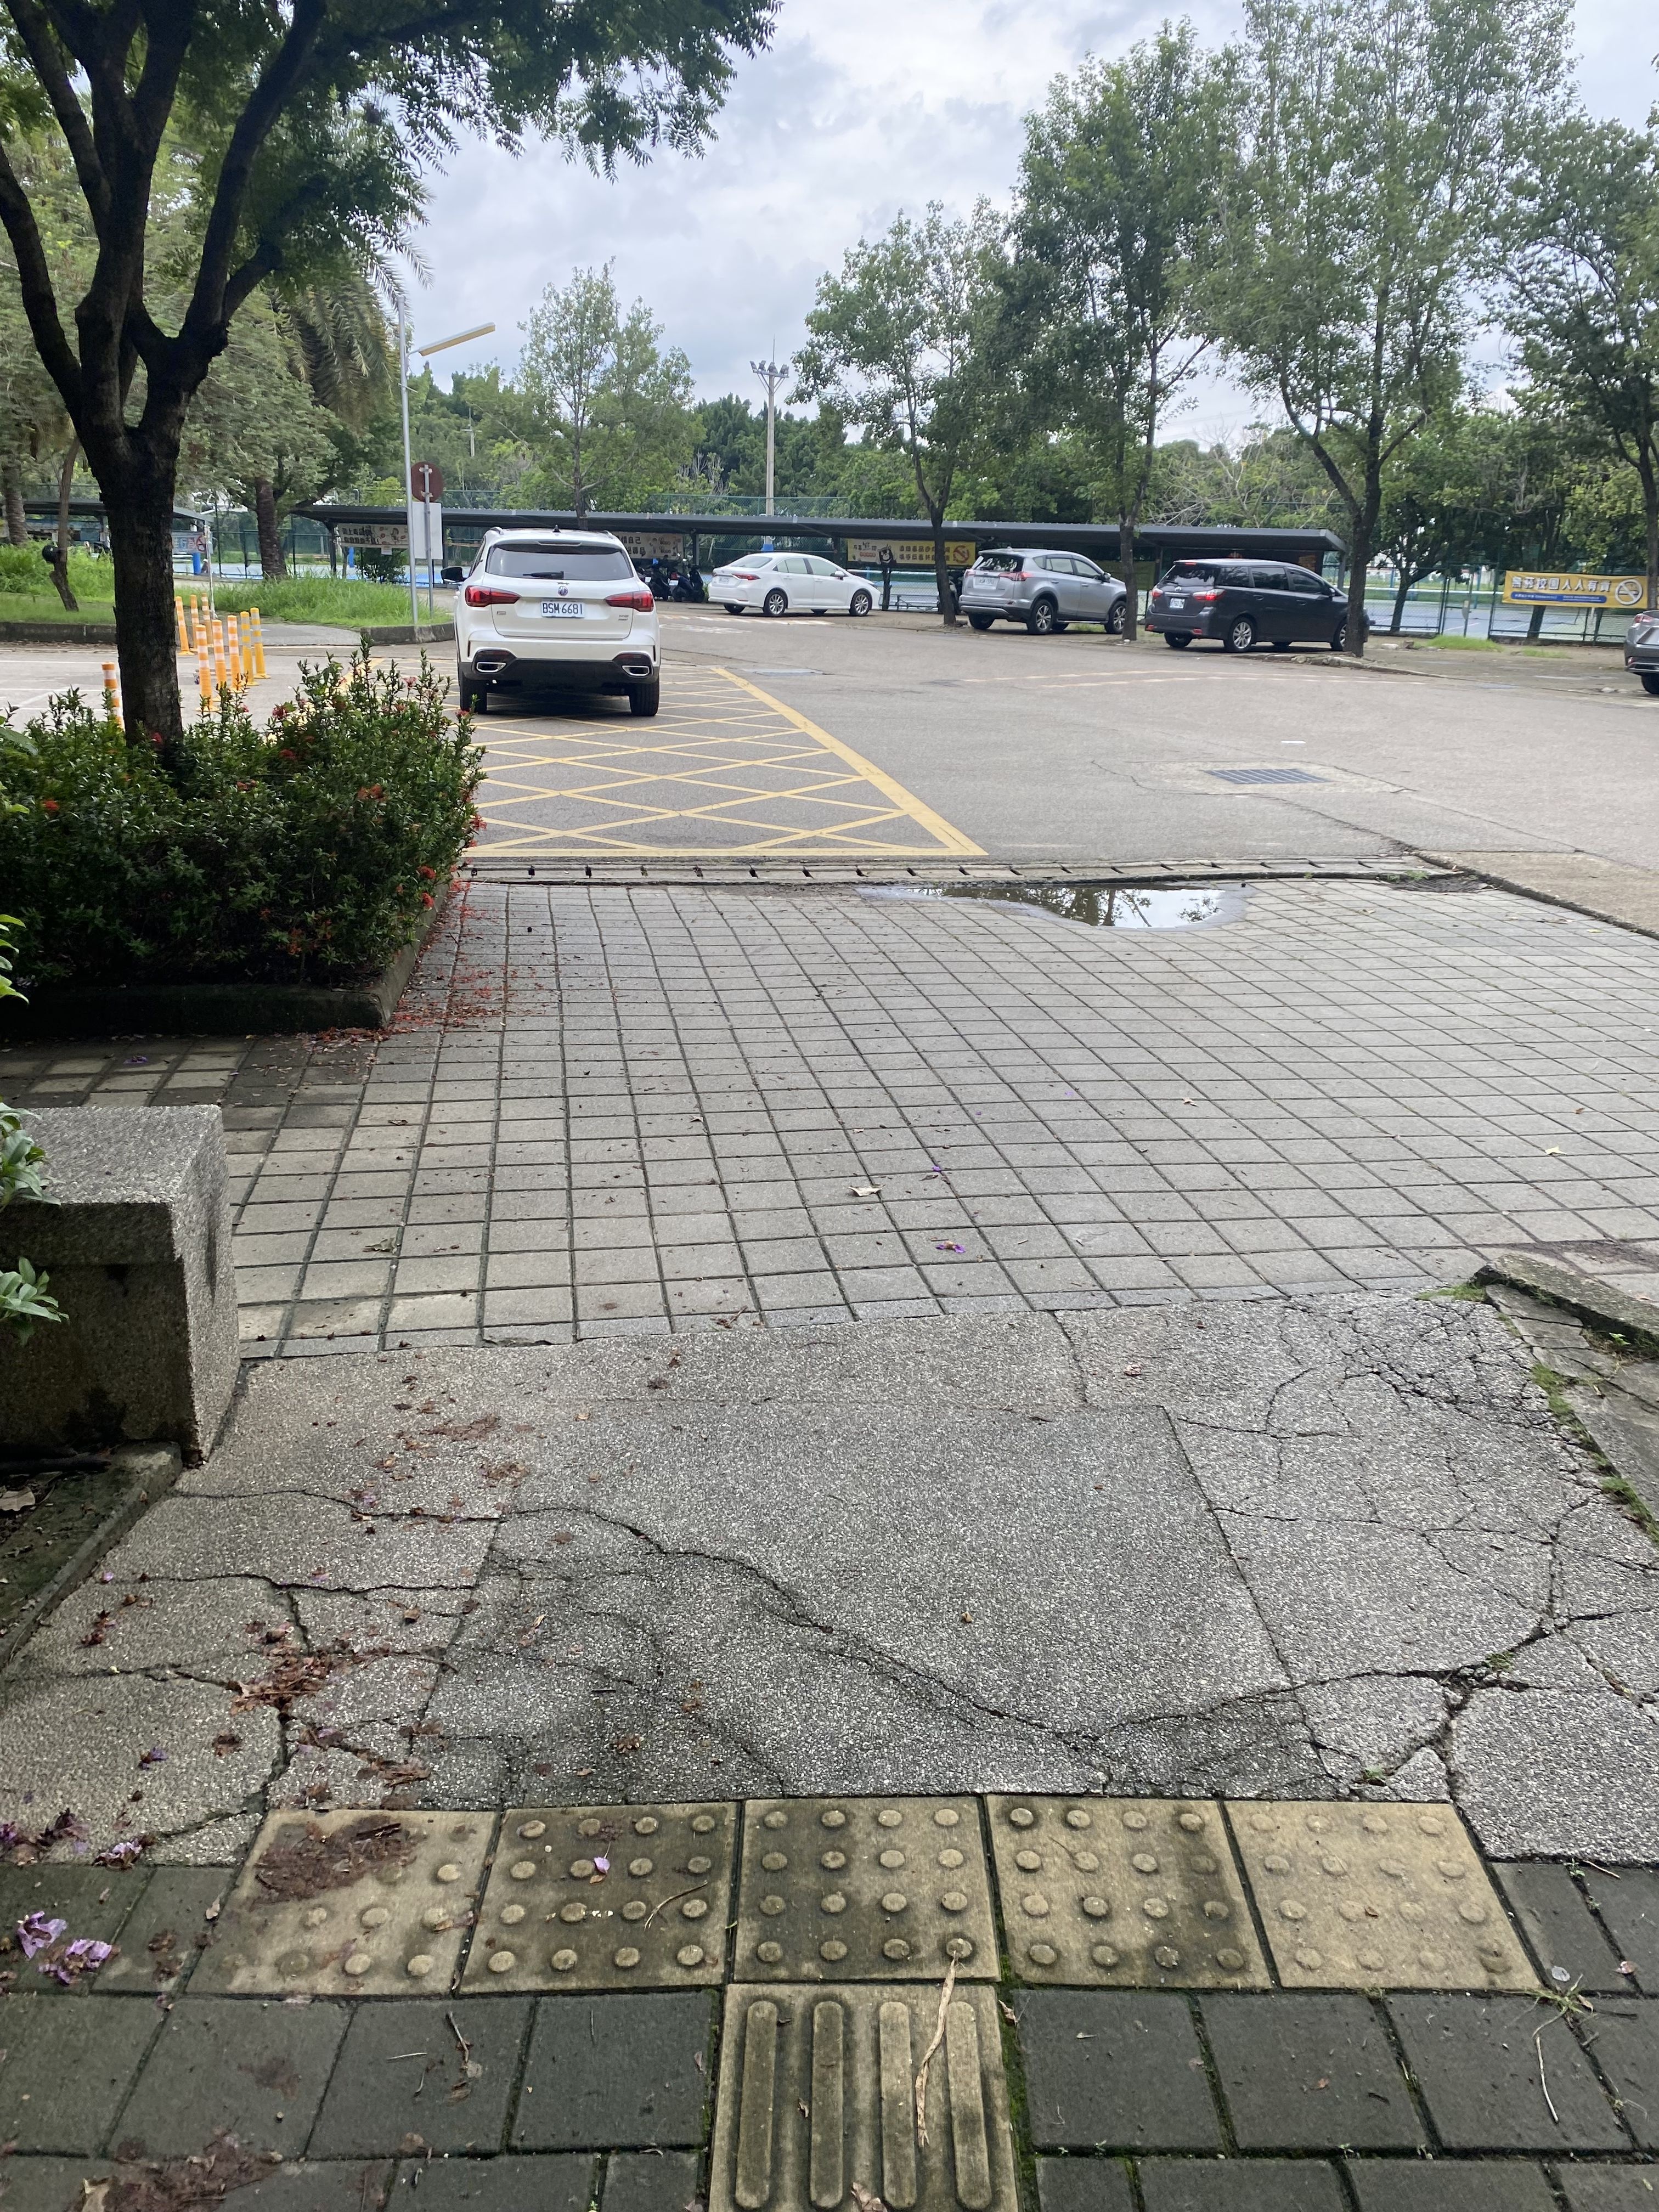sidewalk: (0, 827, 1659, 2210)
